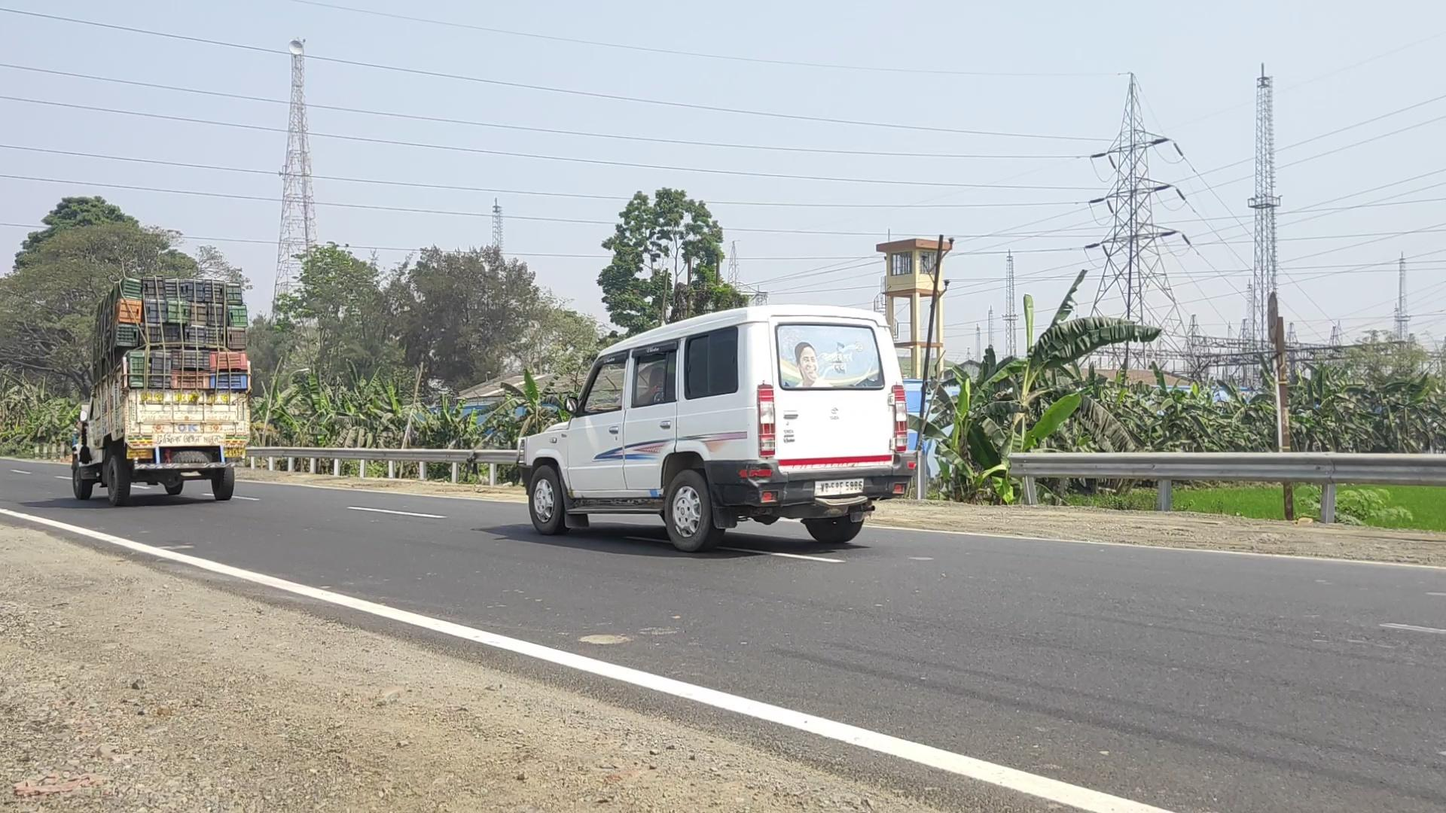car: (516, 304, 917, 553)
van: (72, 276, 251, 505)
